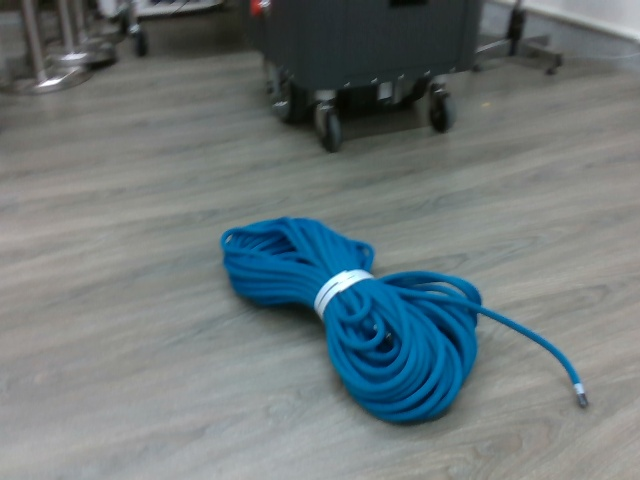rope: (220, 206, 490, 437)
